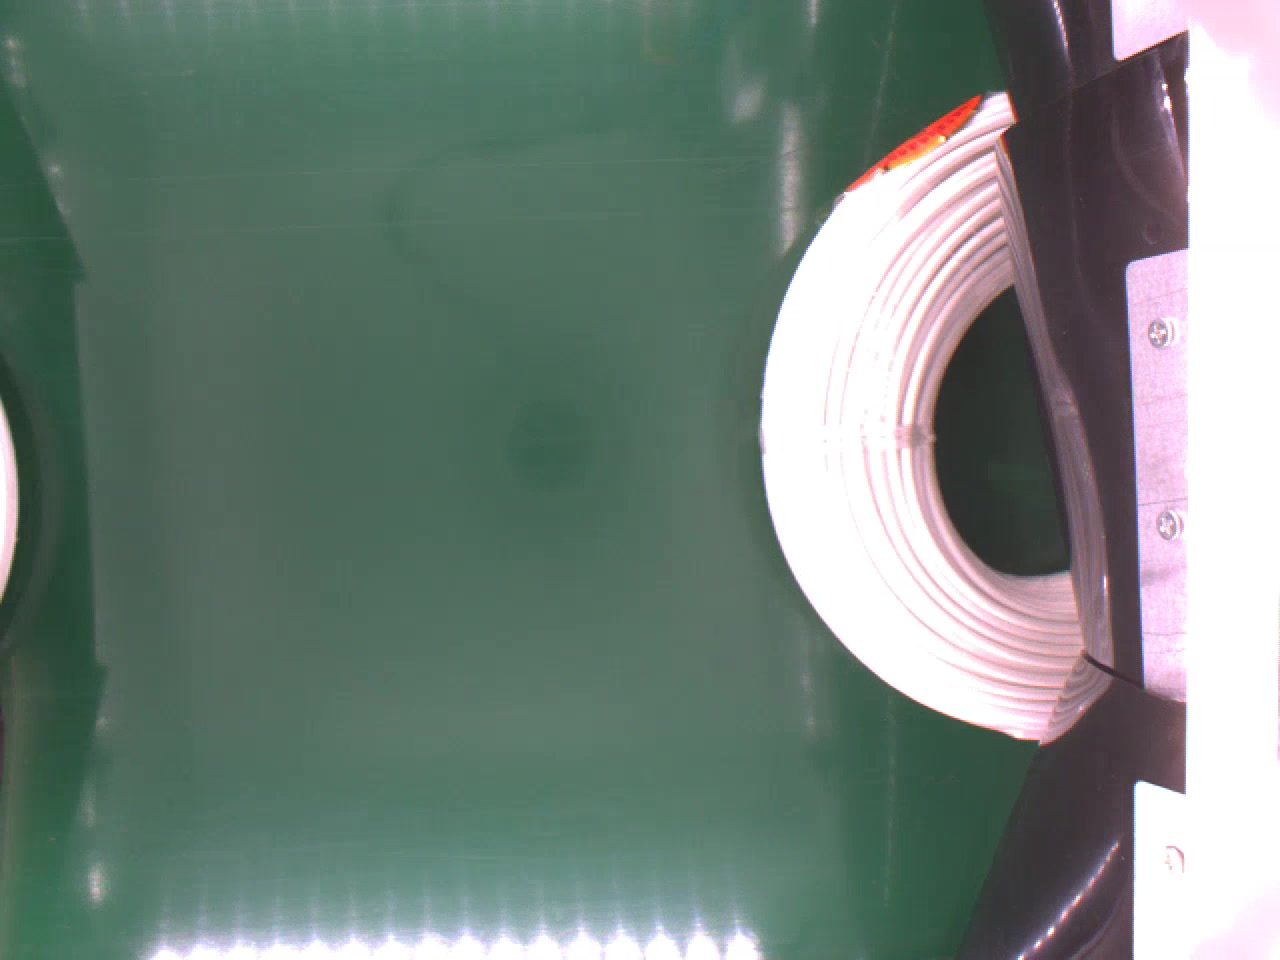white: (751, 87, 1086, 746)
